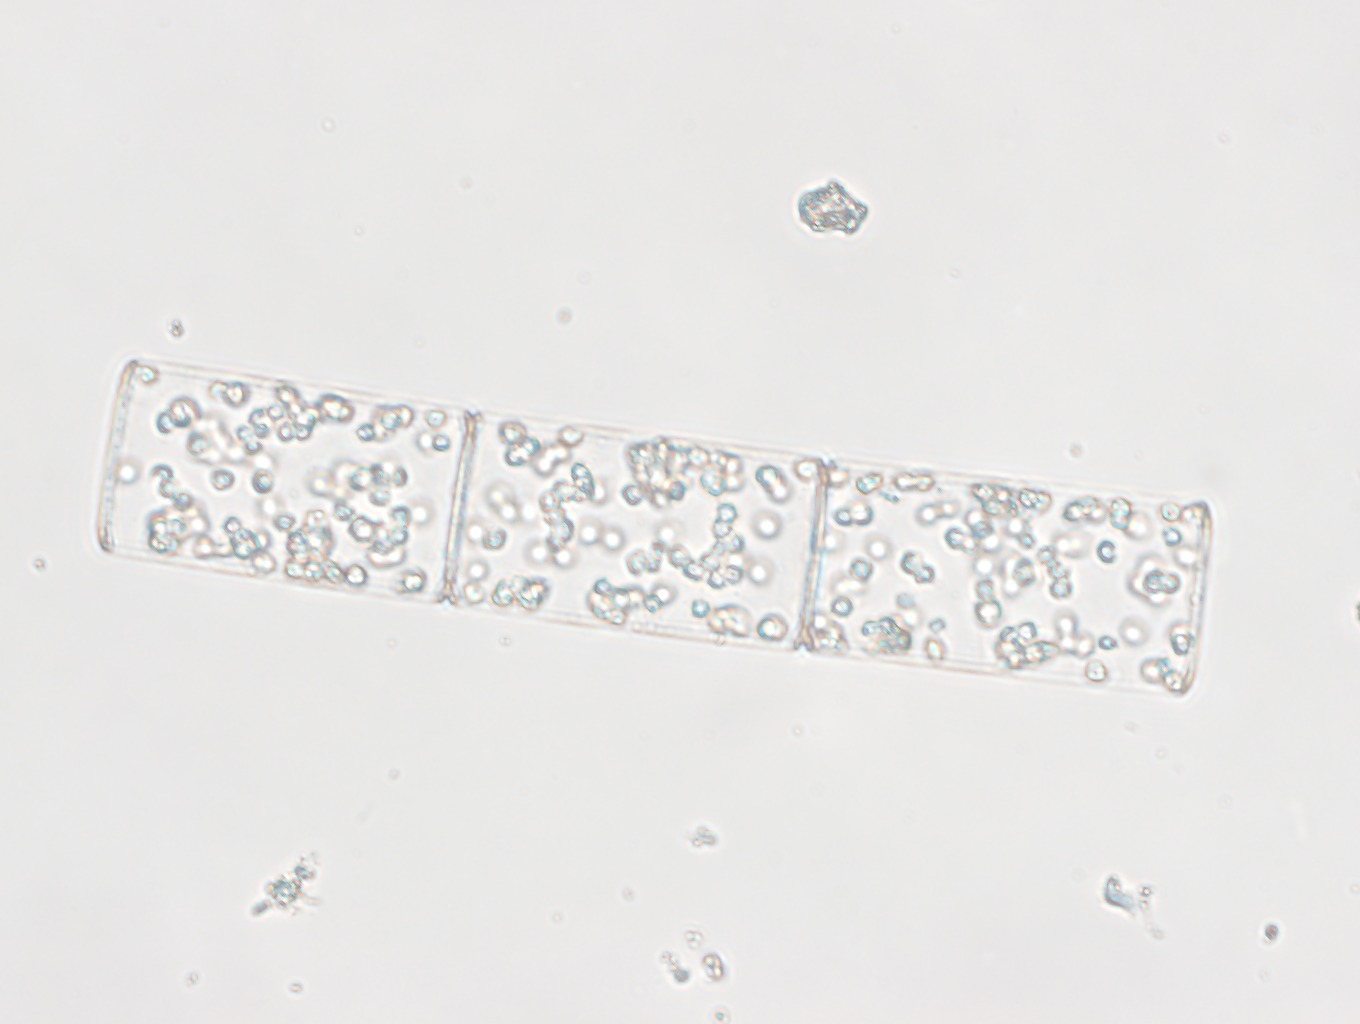guinardia flaccida: (96, 356, 1213, 699)
